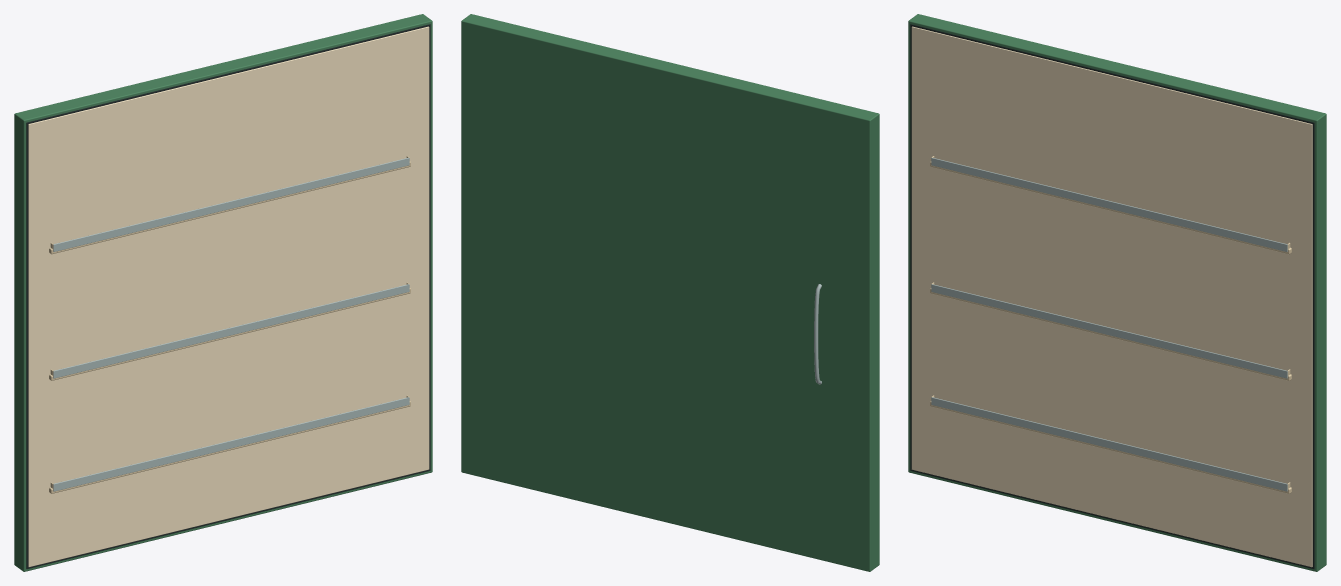
File: fridge-open-door.glb
The picture shows the model from 3 angles, left to right: view 1: azimuth 30°, elevation 25°; view 2: azimuth 150°, elevation 25°; view 3: azimuth 330°, elevation 25°; orthographic projection.
Visible parts, largest first — view 1: ivory, green, steel, dark, cream; view 2: green; view 3: ivory, green, steel, dark, cream.
Boxes of the visible parts, box(x1,y1,x2,y2) form: ivory: box(28, 26, 429, 567); green: box(14, 14, 432, 571); steel: box(53, 157, 409, 491); dark: box(26, 24, 430, 568); cream: box(49, 156, 410, 493); green: box(461, 14, 879, 571); ivory: box(911, 26, 1312, 567); green: box(908, 14, 1326, 571); steel: box(931, 157, 1287, 491); dark: box(910, 24, 1314, 568); cream: box(930, 156, 1291, 493).
Size of the model in its own units: 36 by 38 by 2.91.
